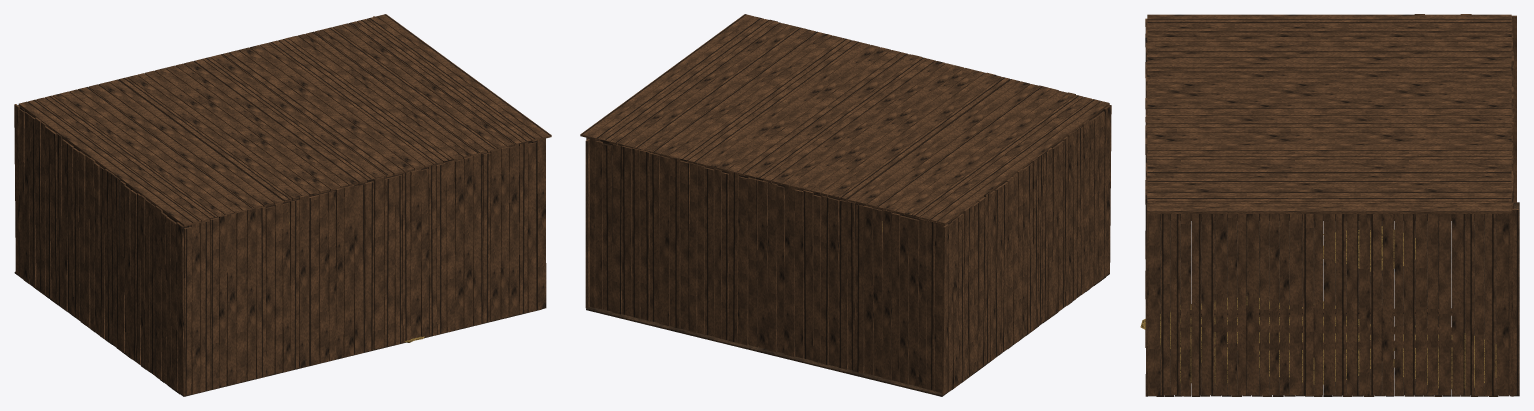
File: Grange_Lobby.glb
3 renders of one model, left to right at view 1: azimuth 30°, elevation 25°; view 2: azimuth 150°, elevation 25°; view 3: azimuth 270°, elevation 25°, orthographic. The views are drawn at different scales.
Visible parts, largest first — view 1: mur84, mur103, mur112, mur100, mur80, toit224, mur97, mur92, mur99, toit221, toit207, toit209 (+100 smaller); view 2: mur68, mur41, mur53, mur50, mur64, toit224, toit207, toit221, toit209, sol37, mur69, mur70 (+102 smaller); view 3: toit209, toit215, toit221, toit233, toit239, toit207, mur155, mur156, mur176, mur177, mur181, mur163 (+68 smaller).
Boxes of the visible parts, <box> form: mur84: <box>236,210,247,382</box>; mur103: <box>410,169,421,338</box>; mur112: <box>490,148,501,320</box>; mur100: <box>384,176,395,346</box>; mur80: <box>199,220,210,391</box>; toit224: <box>238,47,414,172</box>; mur97: <box>354,184,365,354</box>; mur92: <box>309,195,319,365</box>; mur99: <box>373,176,384,349</box>; toit221: <box>210,54,385,178</box>; toit207: <box>78,87,253,210</box>; toit209: <box>98,81,273,206</box>; mur68: <box>669,156,680,328</box>; mur41: <box>908,217,919,386</box>; mur53: <box>803,190,813,360</box>; mur50: <box>828,197,838,366</box>; mur64: <box>704,167,714,336</box>; toit224: <box>716,47,890,171</box>; toit207: <box>876,86,1050,210</box>; toit221: <box>745,54,918,178</box>; toit209: <box>856,81,1029,205</box>; sol37: <box>586,307,946,396</box>; mur69: <box>659,156,669,326</box>; mur70: <box>649,153,659,322</box>; toit209: <box>1147,57,1511,63</box>; toit215: <box>1147,87,1511,93</box>; toit221: <box>1147,117,1511,123</box>; toit233: <box>1147,177,1511,183</box>; toit239: <box>1147,207,1511,213</box>; toit207: <box>1147,46,1511,52</box>; mur155: <box>1201,214,1214,394</box>; mur156: <box>1215,214,1227,395</box>; mur176: <box>1439,214,1451,395</box>; mur177: <box>1452,214,1464,395</box>; mur181: <box>1496,214,1508,395</box>; mur163: <box>1290,214,1302,395</box>.
Bounding box in the file's own units: 10.3 × 4.6 × 8.32.
Materials: 6 (5 with a texture image).
